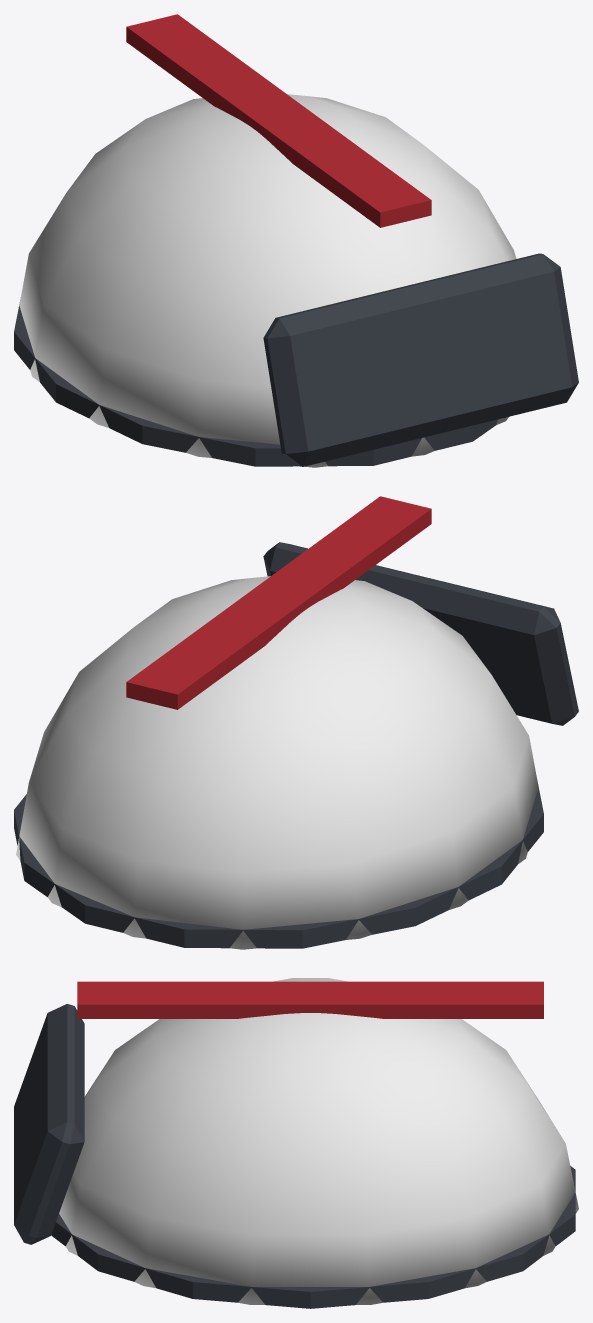
Rendered from PRP_Helmet.fbx.
3 views of the same model, one above another, from view 1: azimuth 30°, elevation 25°; view 2: azimuth 150°, elevation 25°; view 3: azimuth 270°, elevation 25° (orthographic). The views are drawn at different scales.
Parts seen in each view (by area): view 1: PRP_Helmet; view 2: PRP_Helmet; view 3: PRP_Helmet.
Part boxes in pixels (<box>): PRP_Helmet: <box>14,14,578,467</box>; PRP_Helmet: <box>14,496,578,949</box>; PRP_Helmet: <box>14,978,578,1308</box>.
Size of the model in its own units: 0.304 by 0.153 by 0.3632.
